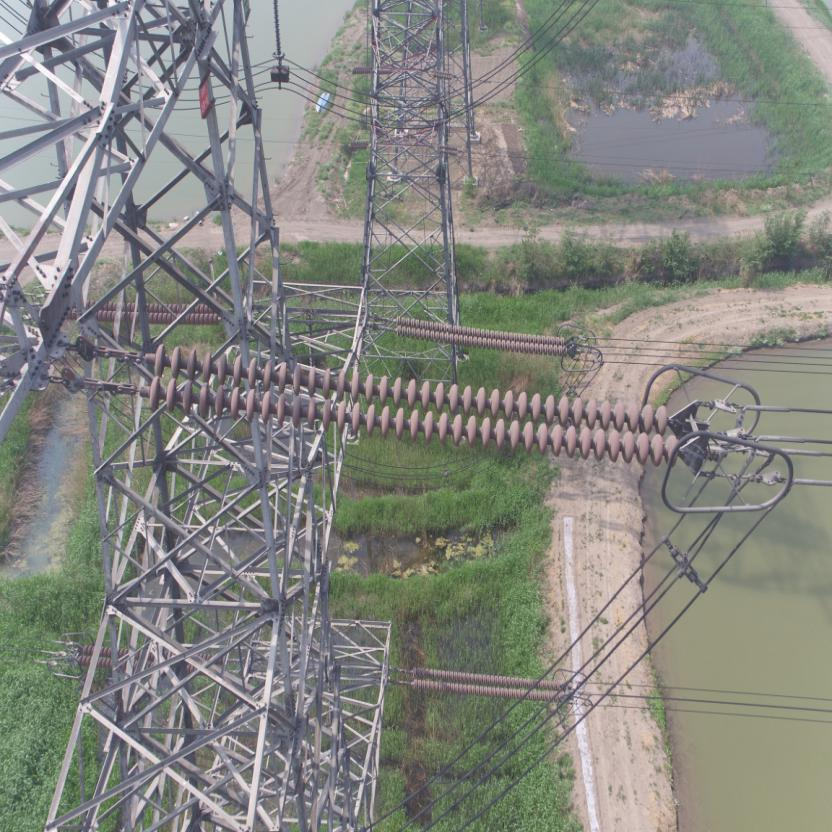insulator: (124, 340, 693, 470), (380, 310, 569, 356), (404, 663, 568, 703)
